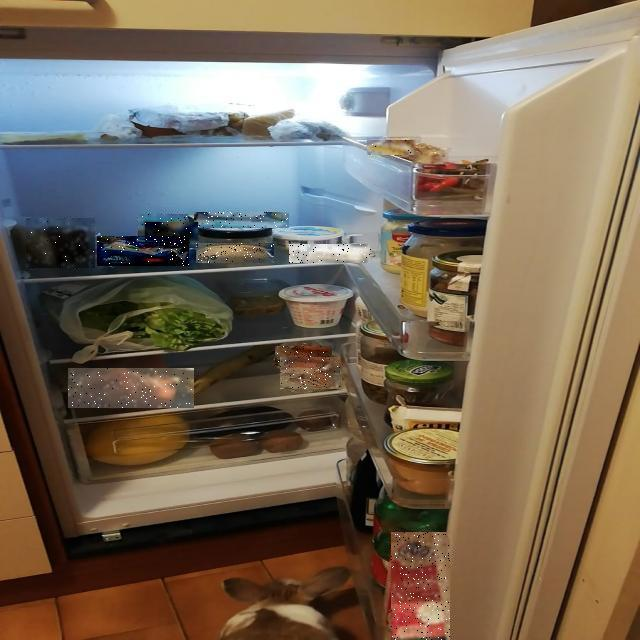Apple: (280, 357, 340, 389), (275, 346, 332, 366)
Butter: (290, 244, 372, 263)
Carrot: (68, 368, 194, 408)
Cheese: (26, 218, 95, 268), (97, 236, 189, 266), (196, 243, 274, 263)
Lemon: (368, 140, 418, 155)
Milk: (391, 532, 450, 640)
Yoghurt: (194, 212, 289, 228), (138, 214, 188, 243), (145, 222, 198, 248)
